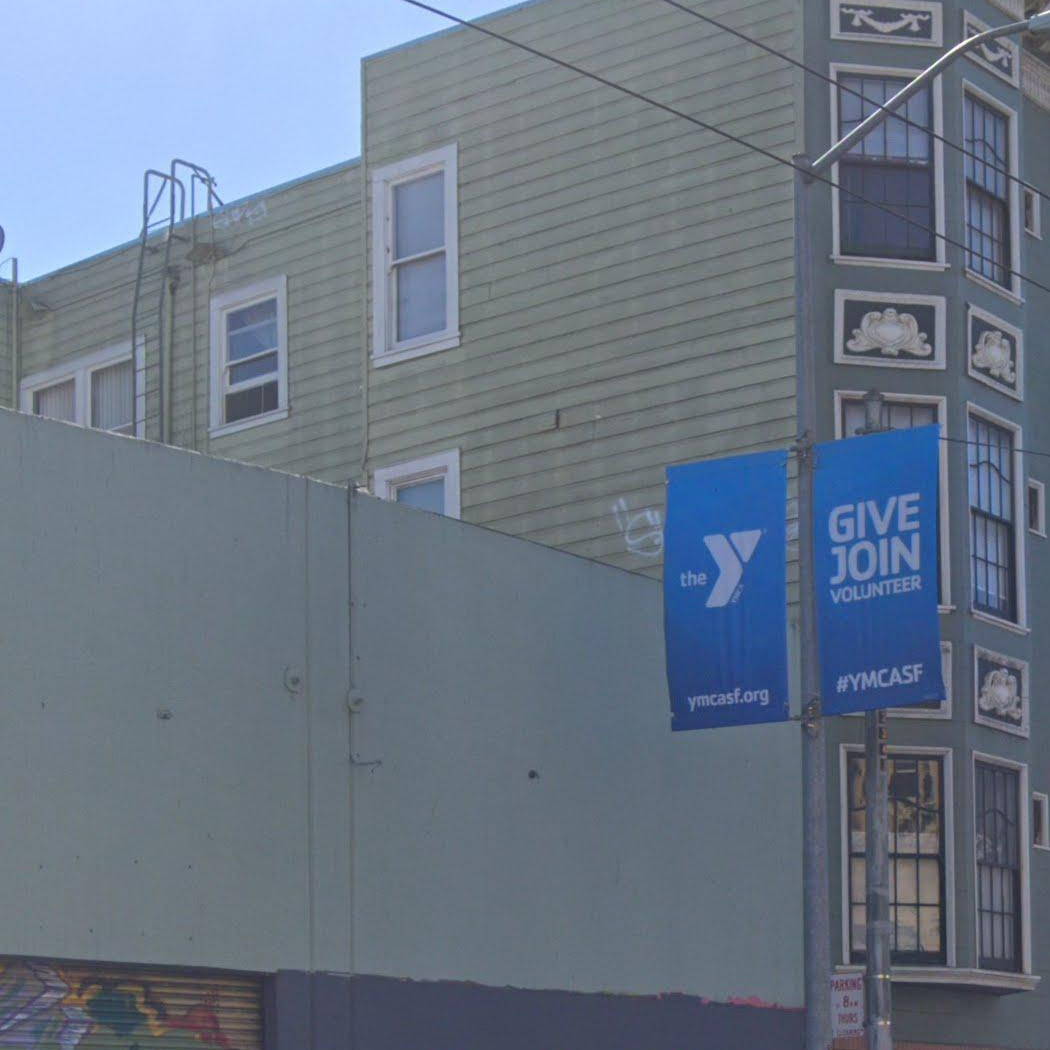No Parking: (826, 969, 867, 1040)
